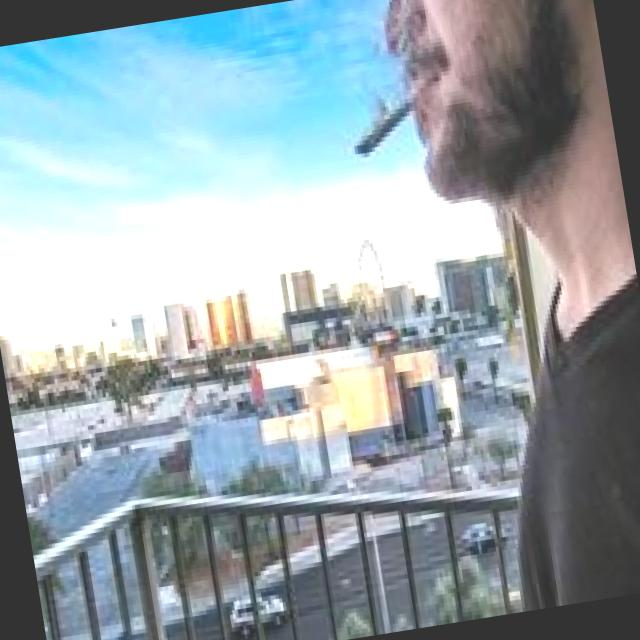smoke: (338, 68, 449, 164)
